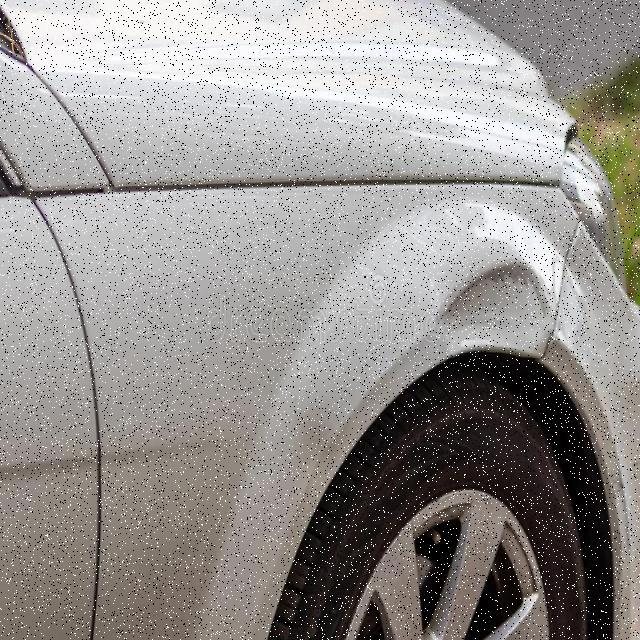fender-dent: (71, 178, 560, 516)
